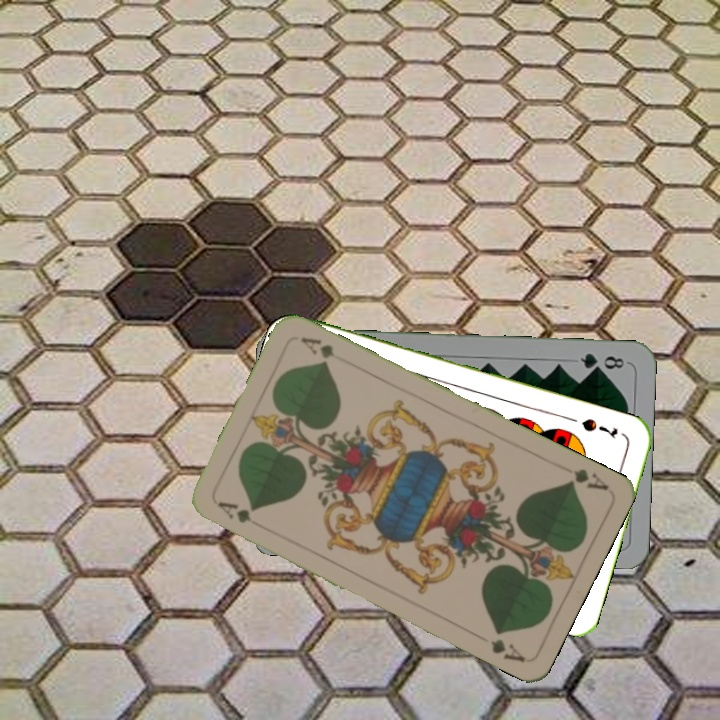G8: (576, 349, 627, 373)
GA: (213, 497, 267, 532), (561, 464, 611, 494)
S7: (577, 414, 620, 441)
